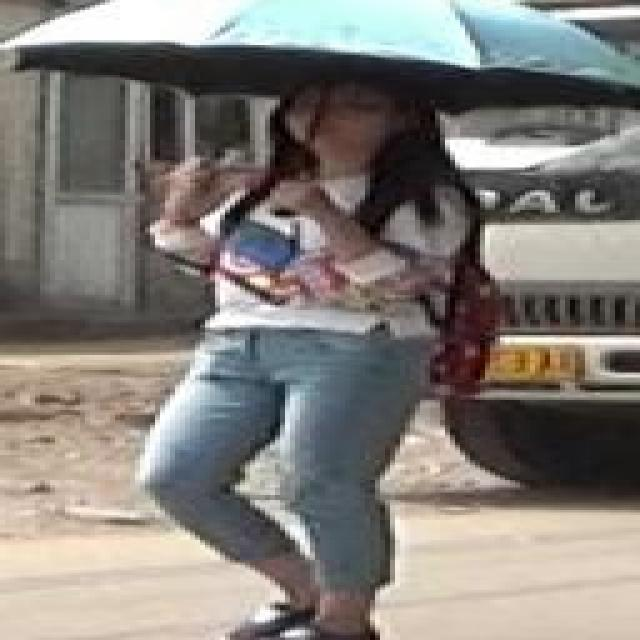adult: (136, 80, 484, 640)
